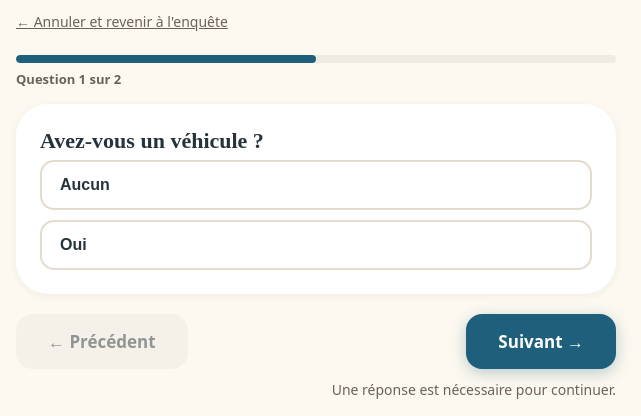
Test case: Questionnaire v2 › les bornes du nombre bloquent « Suivant » avec un message sous le champ
Expected: the heading "Avez-vous un véhicule ?" is shown, [39,127,264,153]
Click the radio button labelled "Oui": x=73, y=244 [40,220,592,270]
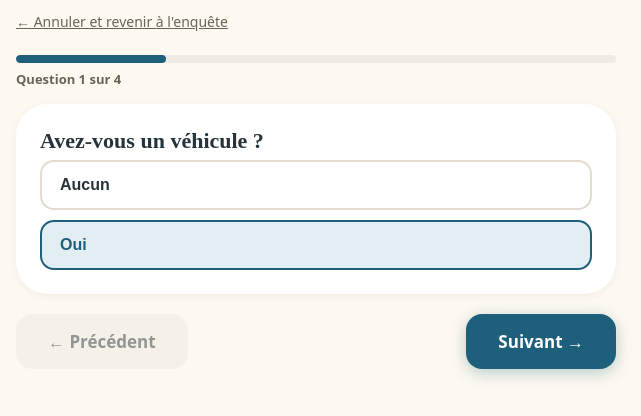
Click the button "Suivant →": x=541, y=342 [466,314,616,369]
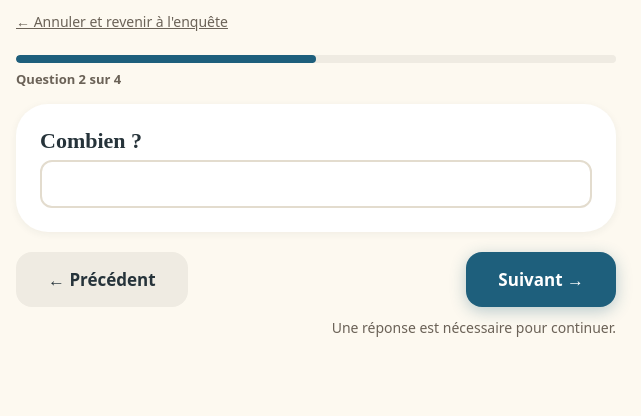
In the number field: x=316, y=184 [40,160,592,208], type "0"
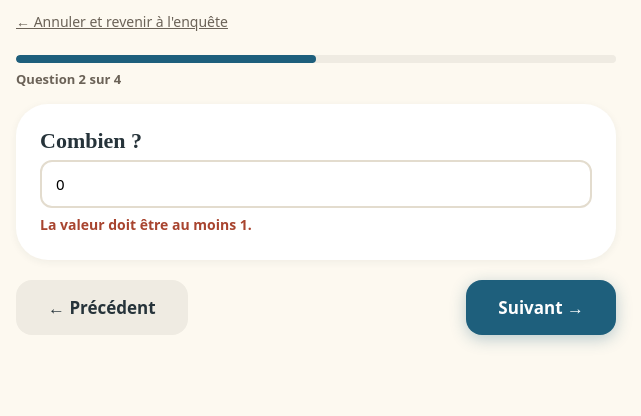
Expected: the button "Suivant →" is disabled, [466,280,616,335]
Expected: the text "La valeur doit être au moins 1." is shown, [40,215,252,234]
